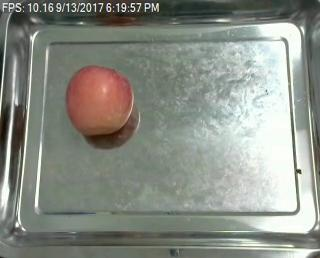apple: (65, 65, 135, 136)
